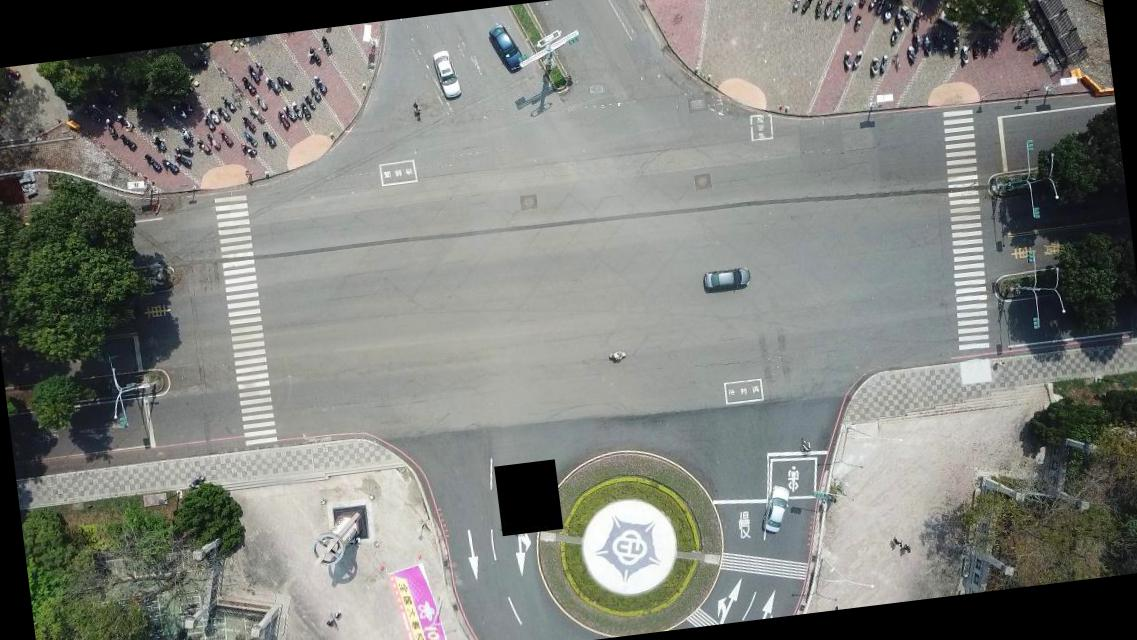vehicle: (486, 20, 526, 74), (756, 482, 795, 535), (431, 48, 461, 100), (701, 264, 751, 292)
